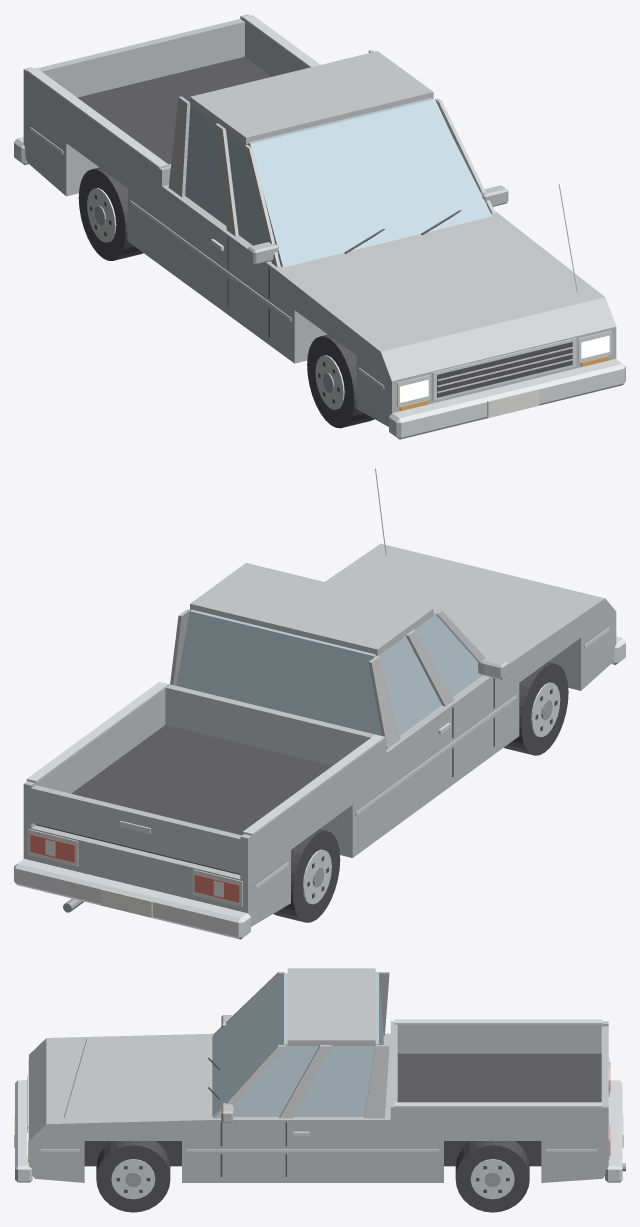
The model's file is car_pickup_s.glb.
3 renders of one model, top to bottom at view 1: azimuth 30°, elevation 25°; view 2: azimuth 150°, elevation 25°; view 3: azimuth 270°, elevation 25°, orthographic. The views are drawn at different scales.
Visible parts, largest first — view 1: car_pickup_s_car_s, car_pickup_s_glass, car_pickup_s_chrome, car_pickup_s_dark, car_pickup_s_rubber, car_pickup_s_lamp_glass, car_pickup_s_paint_w; view 2: car_pickup_s_car_s, car_pickup_s_glass, car_pickup_s_dark, car_pickup_s_chrome, car_pickup_s_rubber, car_pickup_s_neon_r, car_pickup_s_paint_w; view 3: car_pickup_s_car_s, car_pickup_s_glass, car_pickup_s_dark, car_pickup_s_chrome, car_pickup_s_rubber, car_pickup_s_steel.
Part boxes in pixels (x1,y1,x2,y2): car_pickup_s_car_s: (23,14,616,426); car_pickup_s_glass: (185,98,492,267); car_pickup_s_chrome: (14,15,625,439); car_pickup_s_dark: (77,56,572,403); car_pickup_s_rubber: (78,167,374,428); car_pickup_s_lamp_glass: (400,335,609,402); car_pickup_s_paint_w: (487,389,539,417); car_pickup_s_car_s: (23,543,616,926); car_pickup_s_glass: (176,609,482,735); car_pickup_s_dark: (35,678,557,898); car_pickup_s_chrome: (14,468,625,939); car_pickup_s_rubber: (273,662,568,922); car_pickup_s_neon_r: (30,834,239,902); car_pickup_s_paint_w: (45,839,223,917); car_pickup_s_car_s: (29,968,608,1182); car_pickup_s_glass: (212,973,383,1116); car_pickup_s_dark: (27,1053,601,1192); car_pickup_s_chrome: (15,1019,622,1199); car_pickup_s_rubber: (84,1141,541,1212); car_pickup_s_steel: (125,1163,625,1187).
Bounding box in the file's own units: 2 × 1.6 × 5.28.
